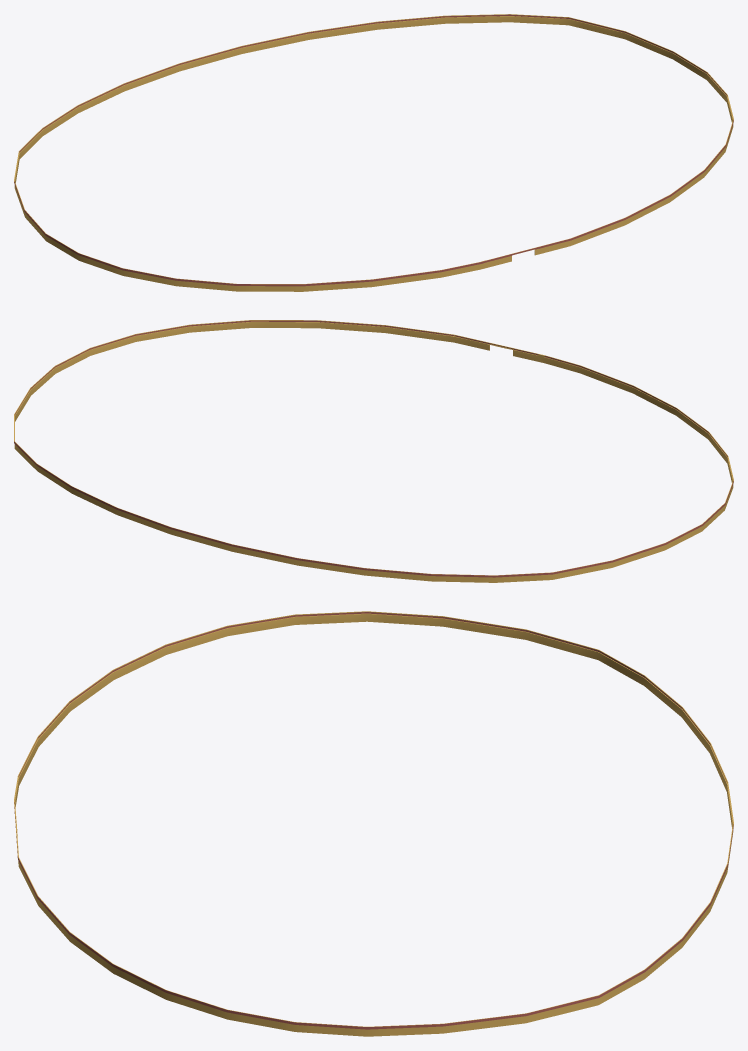
Rendered from HospitalFence.fbx.
The picture shows the model from 3 angles, top to bottom: view 1: azimuth 30°, elevation 25°; view 2: azimuth 150°, elevation 25°; view 3: azimuth 270°, elevation 25°; orthographic projection. The views are drawn at different scales.
Visible parts, largest first — view 1: Cylinder.020; view 2: Cylinder.020; view 3: Cylinder.020.
Boxes of the visible parts, x1=… form: Cylinder.020: x1=14, y1=14, x2=733, y2=291; Cylinder.020: x1=14, y1=320, x2=733, y2=582; Cylinder.020: x1=14, y1=611, x2=733, y2=1036.
Bounding box in the file's own units: 54671 × 740 × 40000.
